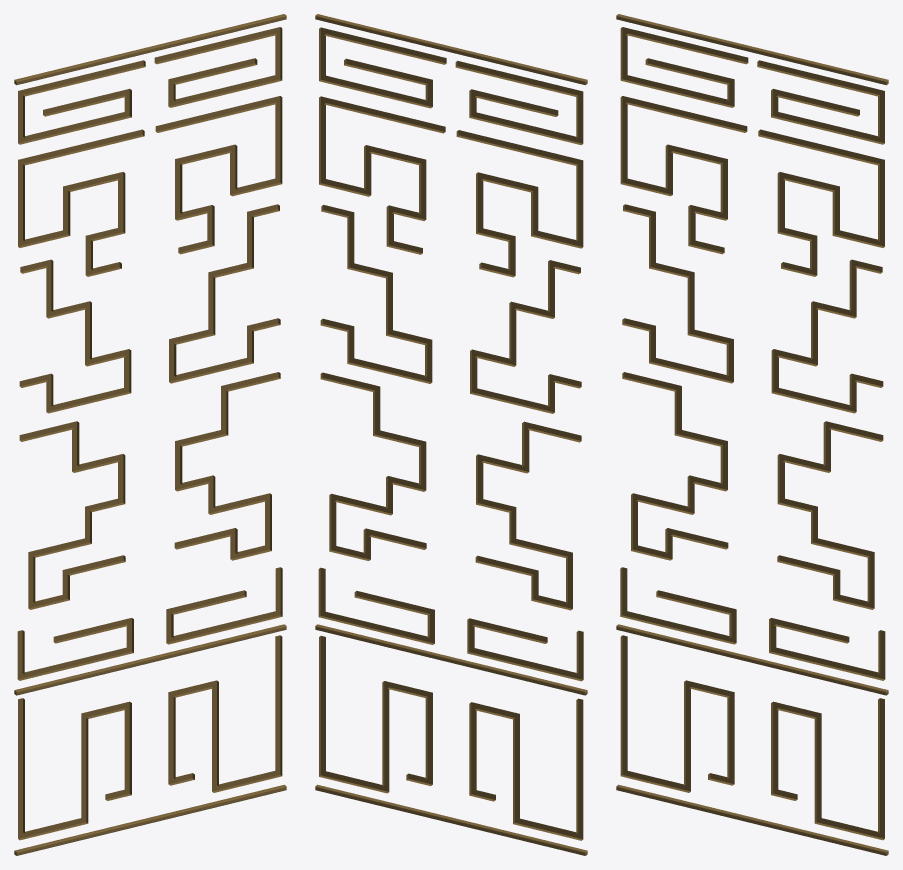
File: grille.glb
3 renders of one model, left to right at view 1: azimuth 30°, elevation 25°; view 2: azimuth 150°, elevation 25°; view 3: azimuth 330°, elevation 25°, orthographic.
Visible parts, largest first — view 1: Tianjin_grille; view 2: Tianjin_grille; view 3: Tianjin_grille.
Boxes of the visible parts, x1,y1,x2,y2 form: Tianjin_grille: (14, 14, 286, 855); Tianjin_grille: (315, 14, 587, 855); Tianjin_grille: (616, 14, 888, 855).
Bounding box in the file's own units: 0.9039 × 2.47 × 0.0154.
